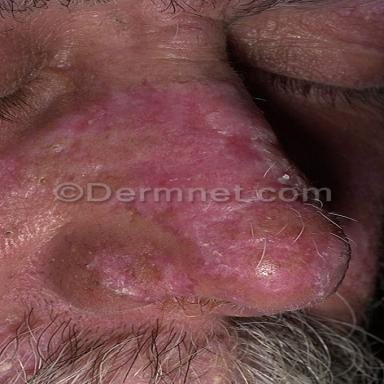Lupus-Erythematosus-Chronicus-Discoides: (0, 77, 305, 197), (87, 202, 352, 303)
